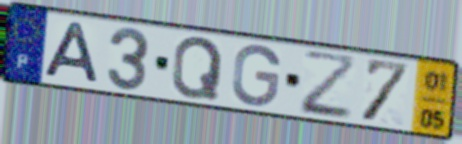3: (105, 25, 151, 92)
7: (362, 57, 410, 124)
A: (40, 19, 102, 86)
G: (229, 43, 284, 110)
Q: (169, 34, 226, 101)
Z: (300, 48, 359, 122)
